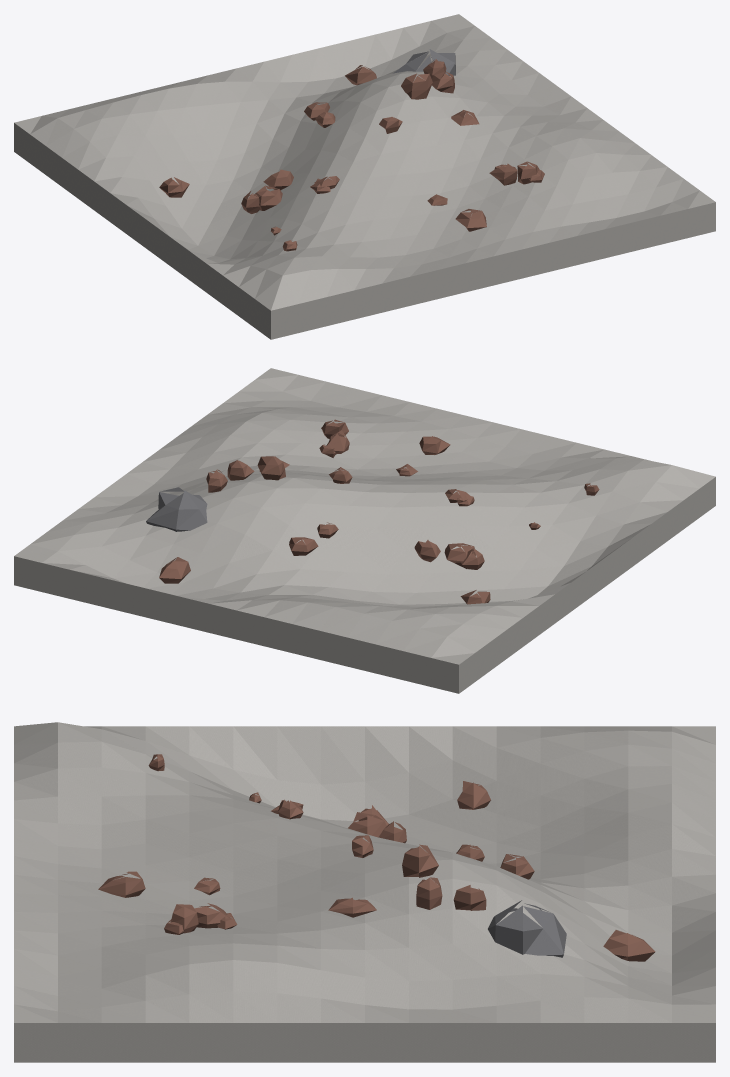
The model's file is volcano-and-lava-fields-volcano-and-lava-fields-ash-fi-1b7f96b1__37443.glb.
3 renders of one model, top to bottom at view 1: azimuth 30°, elevation 25°; view 2: azimuth 150°, elevation 25°; view 3: azimuth 270°, elevation 25°, orthographic. The views are drawn at different scales.
Parts seen in each view (by area): view 1: volcano-and-lava-fields-ash-field-module; view 2: volcano-and-lava-fields-ash-field-module; view 3: volcano-and-lava-fields-ash-field-module.
Boxes of the visible parts, x1=… form: volcano-and-lava-fields-ash-field-module: x1=14, y1=14, x2=715, y2=339; volcano-and-lava-fields-ash-field-module: x1=14, y1=368, x2=715, y2=693; volcano-and-lava-fields-ash-field-module: x1=14, y1=722, x2=715, y2=1062.
Size of the model in its own units: 4 by 0.858 by 4.
Materials: 3 (3 with a texture image).
